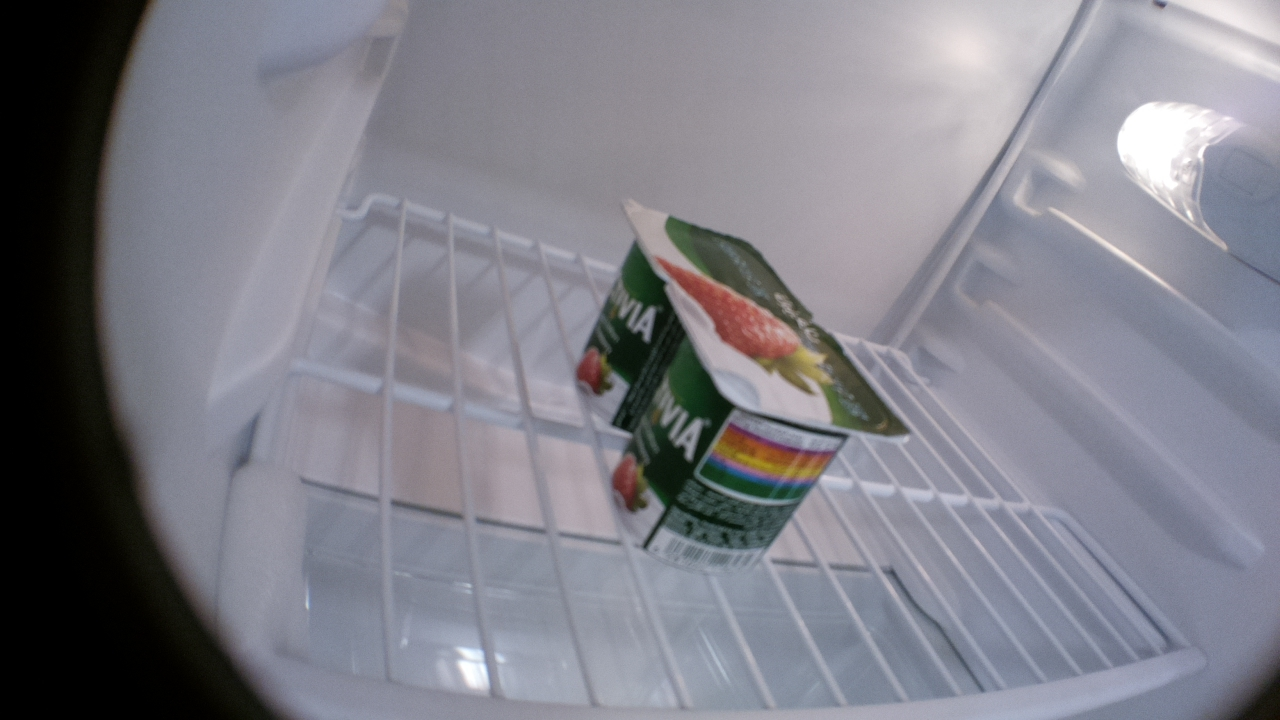yoghurt: (607, 287, 917, 571), (570, 196, 826, 432)
